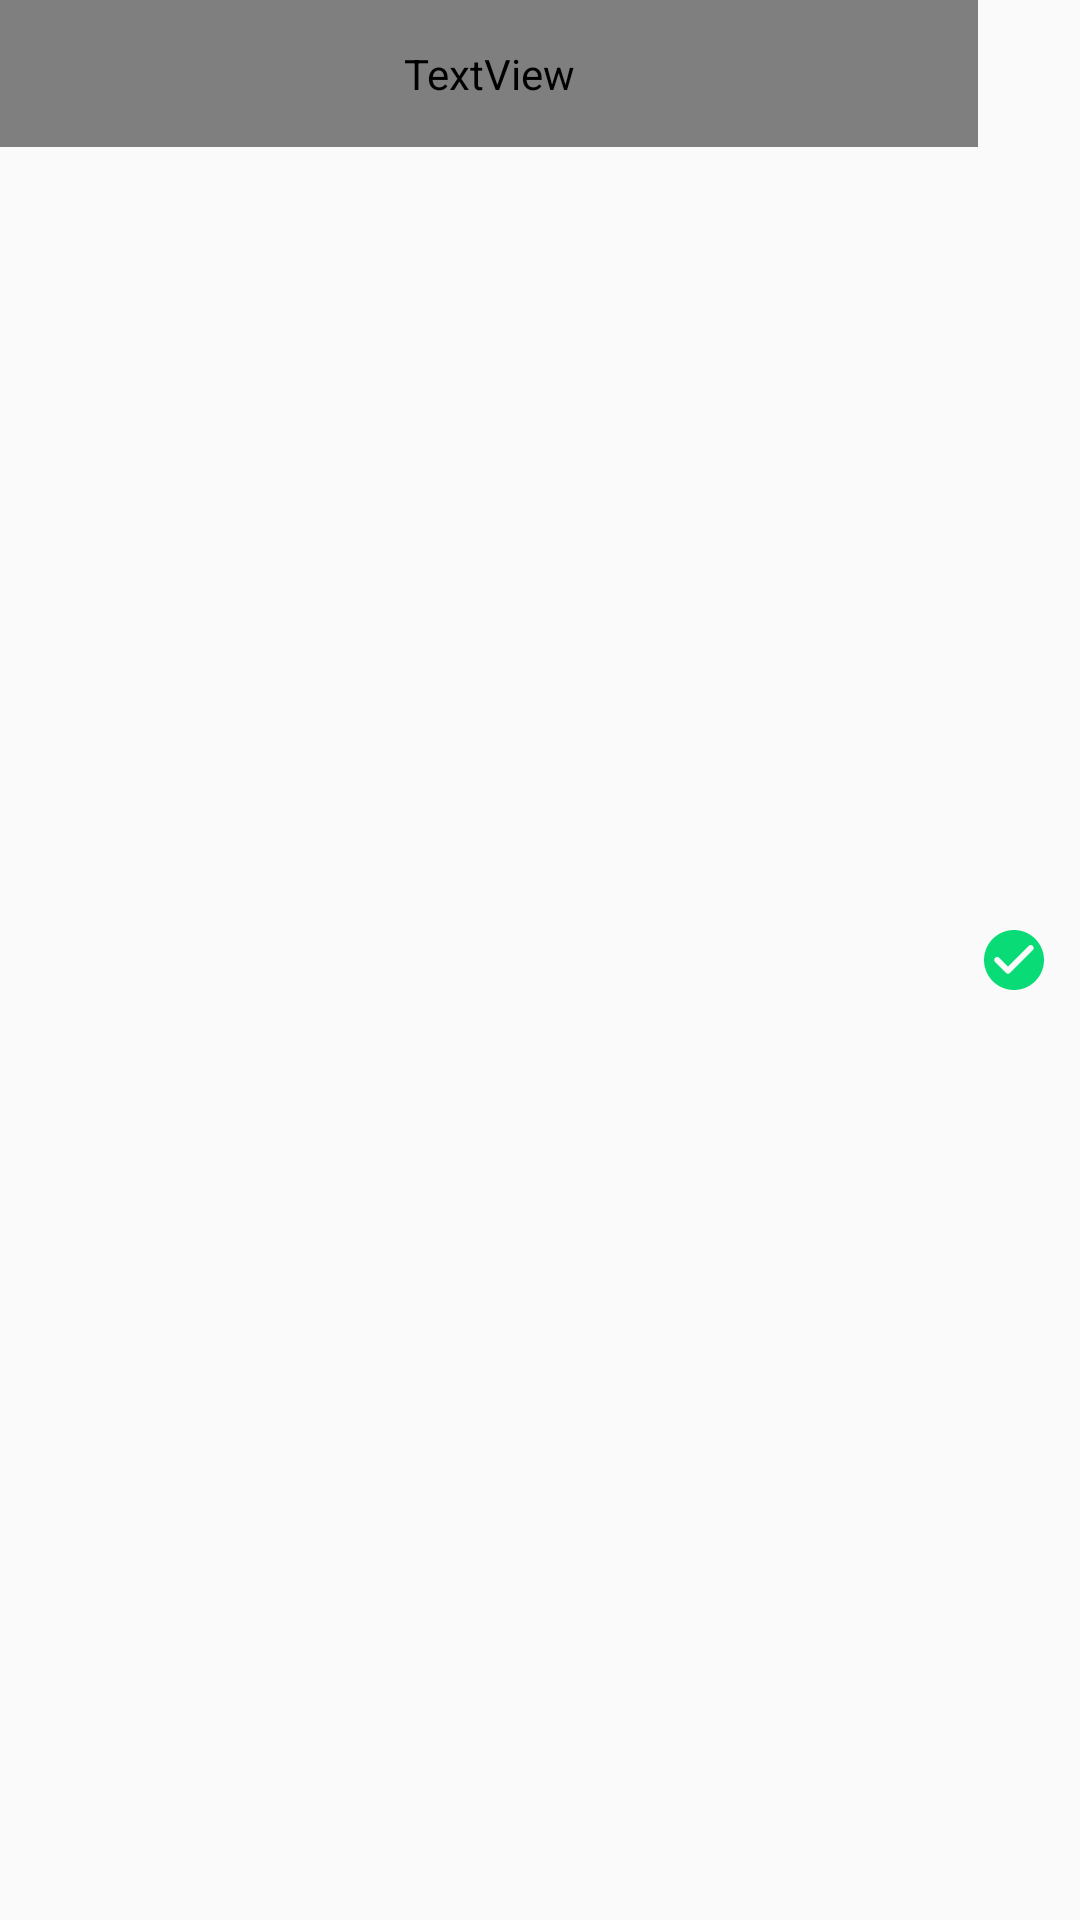

Icons on this 1080x1920 Android screen, each with its box as Rect(x1, y1, x2, y2):
check circle: Rect(984, 930, 1044, 990)
